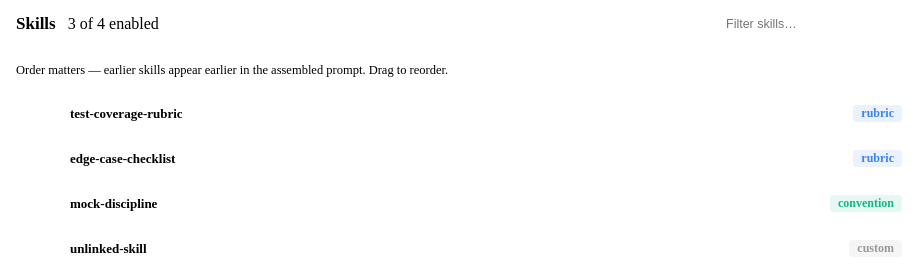
Test: SkillsTab › disables dragging while a filter is active, so hidden skills can't be dropped
This screenshot has width=923, height=270.
Expected: the text "mock-discipline" is shown, [70, 196, 157, 211]
Step 1. Type "mock" into the field labelled "Filter skills…" → (815,24), box [724, 16, 906, 32]
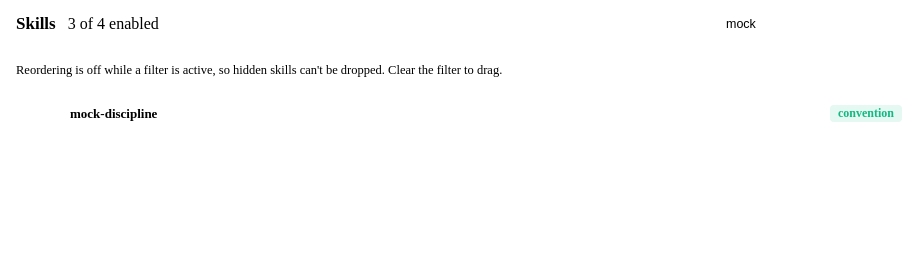
Now the text "Reordering is off while a filter is active" is shown, box [16, 63, 502, 77]
